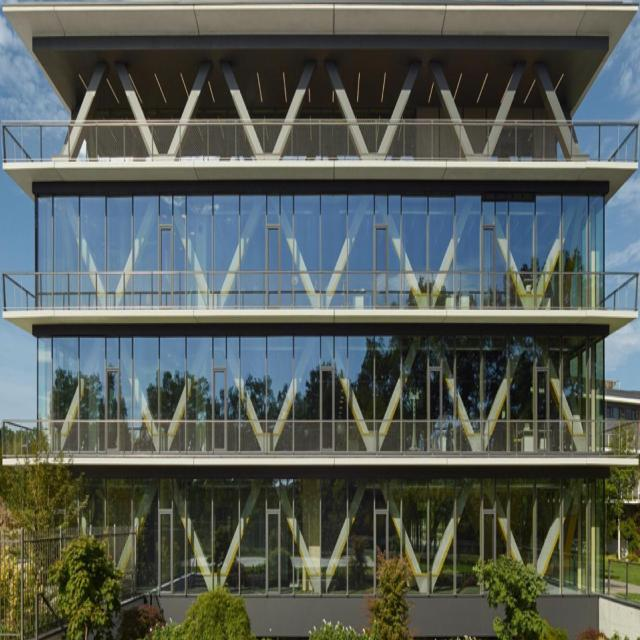railing: (1, 118, 639, 164), (3, 421, 640, 454), (4, 273, 640, 306)
window: (55, 479, 605, 597), (38, 334, 606, 418), (34, 196, 607, 271)
